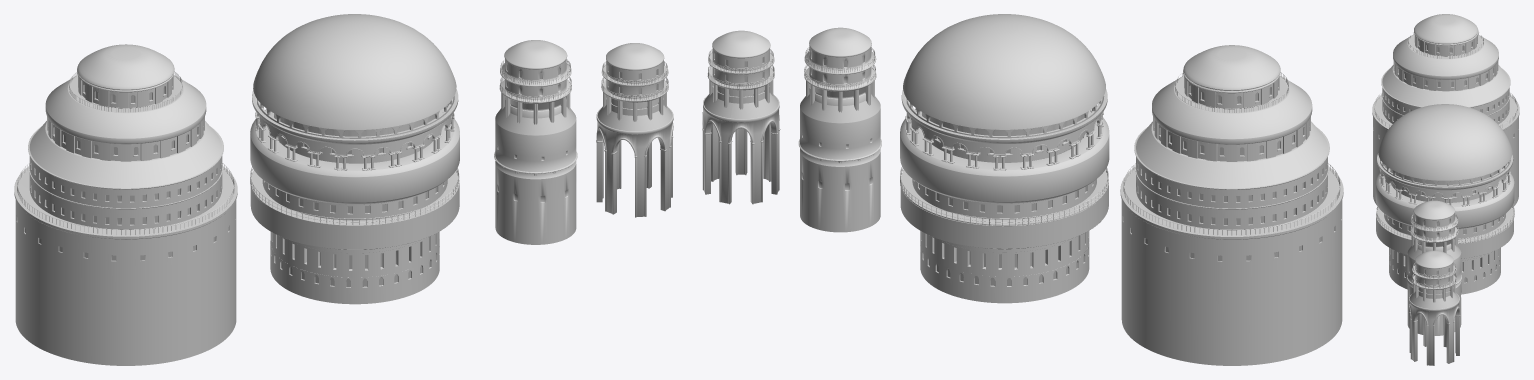
The model's file is buildings.glb.
3 views of the same model, side by side, from view 1: azimuth 30°, elevation 25°; view 2: azimuth 150°, elevation 25°; view 3: azimuth 270°, elevation 25° (orthographic). The views are drawn at different scales.
Parts seen in each view (by area): view 1: Fantasy_building_08, Fantasy_building_04, Fantasy_building_03, Fantasy_building_element_05..001; view 2: Fantasy_building_08, Fantasy_building_04, Fantasy_building_03, Fantasy_building_element_05..001; view 3: Fantasy_building_04, Fantasy_building_08, Fantasy_building_element_05..001, Fantasy_building_03.
Part boxes in pixels (x1,y1,x2,y2): Fantasy_building_08: (14,44,237,365); Fantasy_building_04: (250,14,459,304); Fantasy_building_03: (494,40,577,244); Fantasy_building_element_05..001: (596,43,673,217); Fantasy_building_08: (1120,45,1343,365); Fantasy_building_04: (900,14,1109,303); Fantasy_building_03: (798,27,881,232); Fantasy_building_element_05..001: (702,30,780,204); Fantasy_building_04: (1375,104,1514,294); Fantasy_building_08: (1372,14,1519,207); Fantasy_building_element_05..001: (1409,250,1460,365); Fantasy_building_03: (1407,200,1461,335).
Bounding box in the file's own units: 127 × 52.15 × 39.09.
2 materials, 1 textured.
